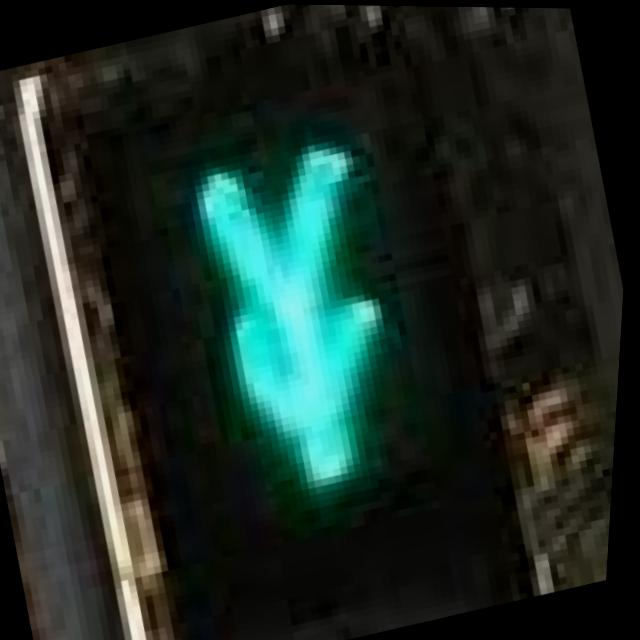green_light: (101, 84, 534, 579)
